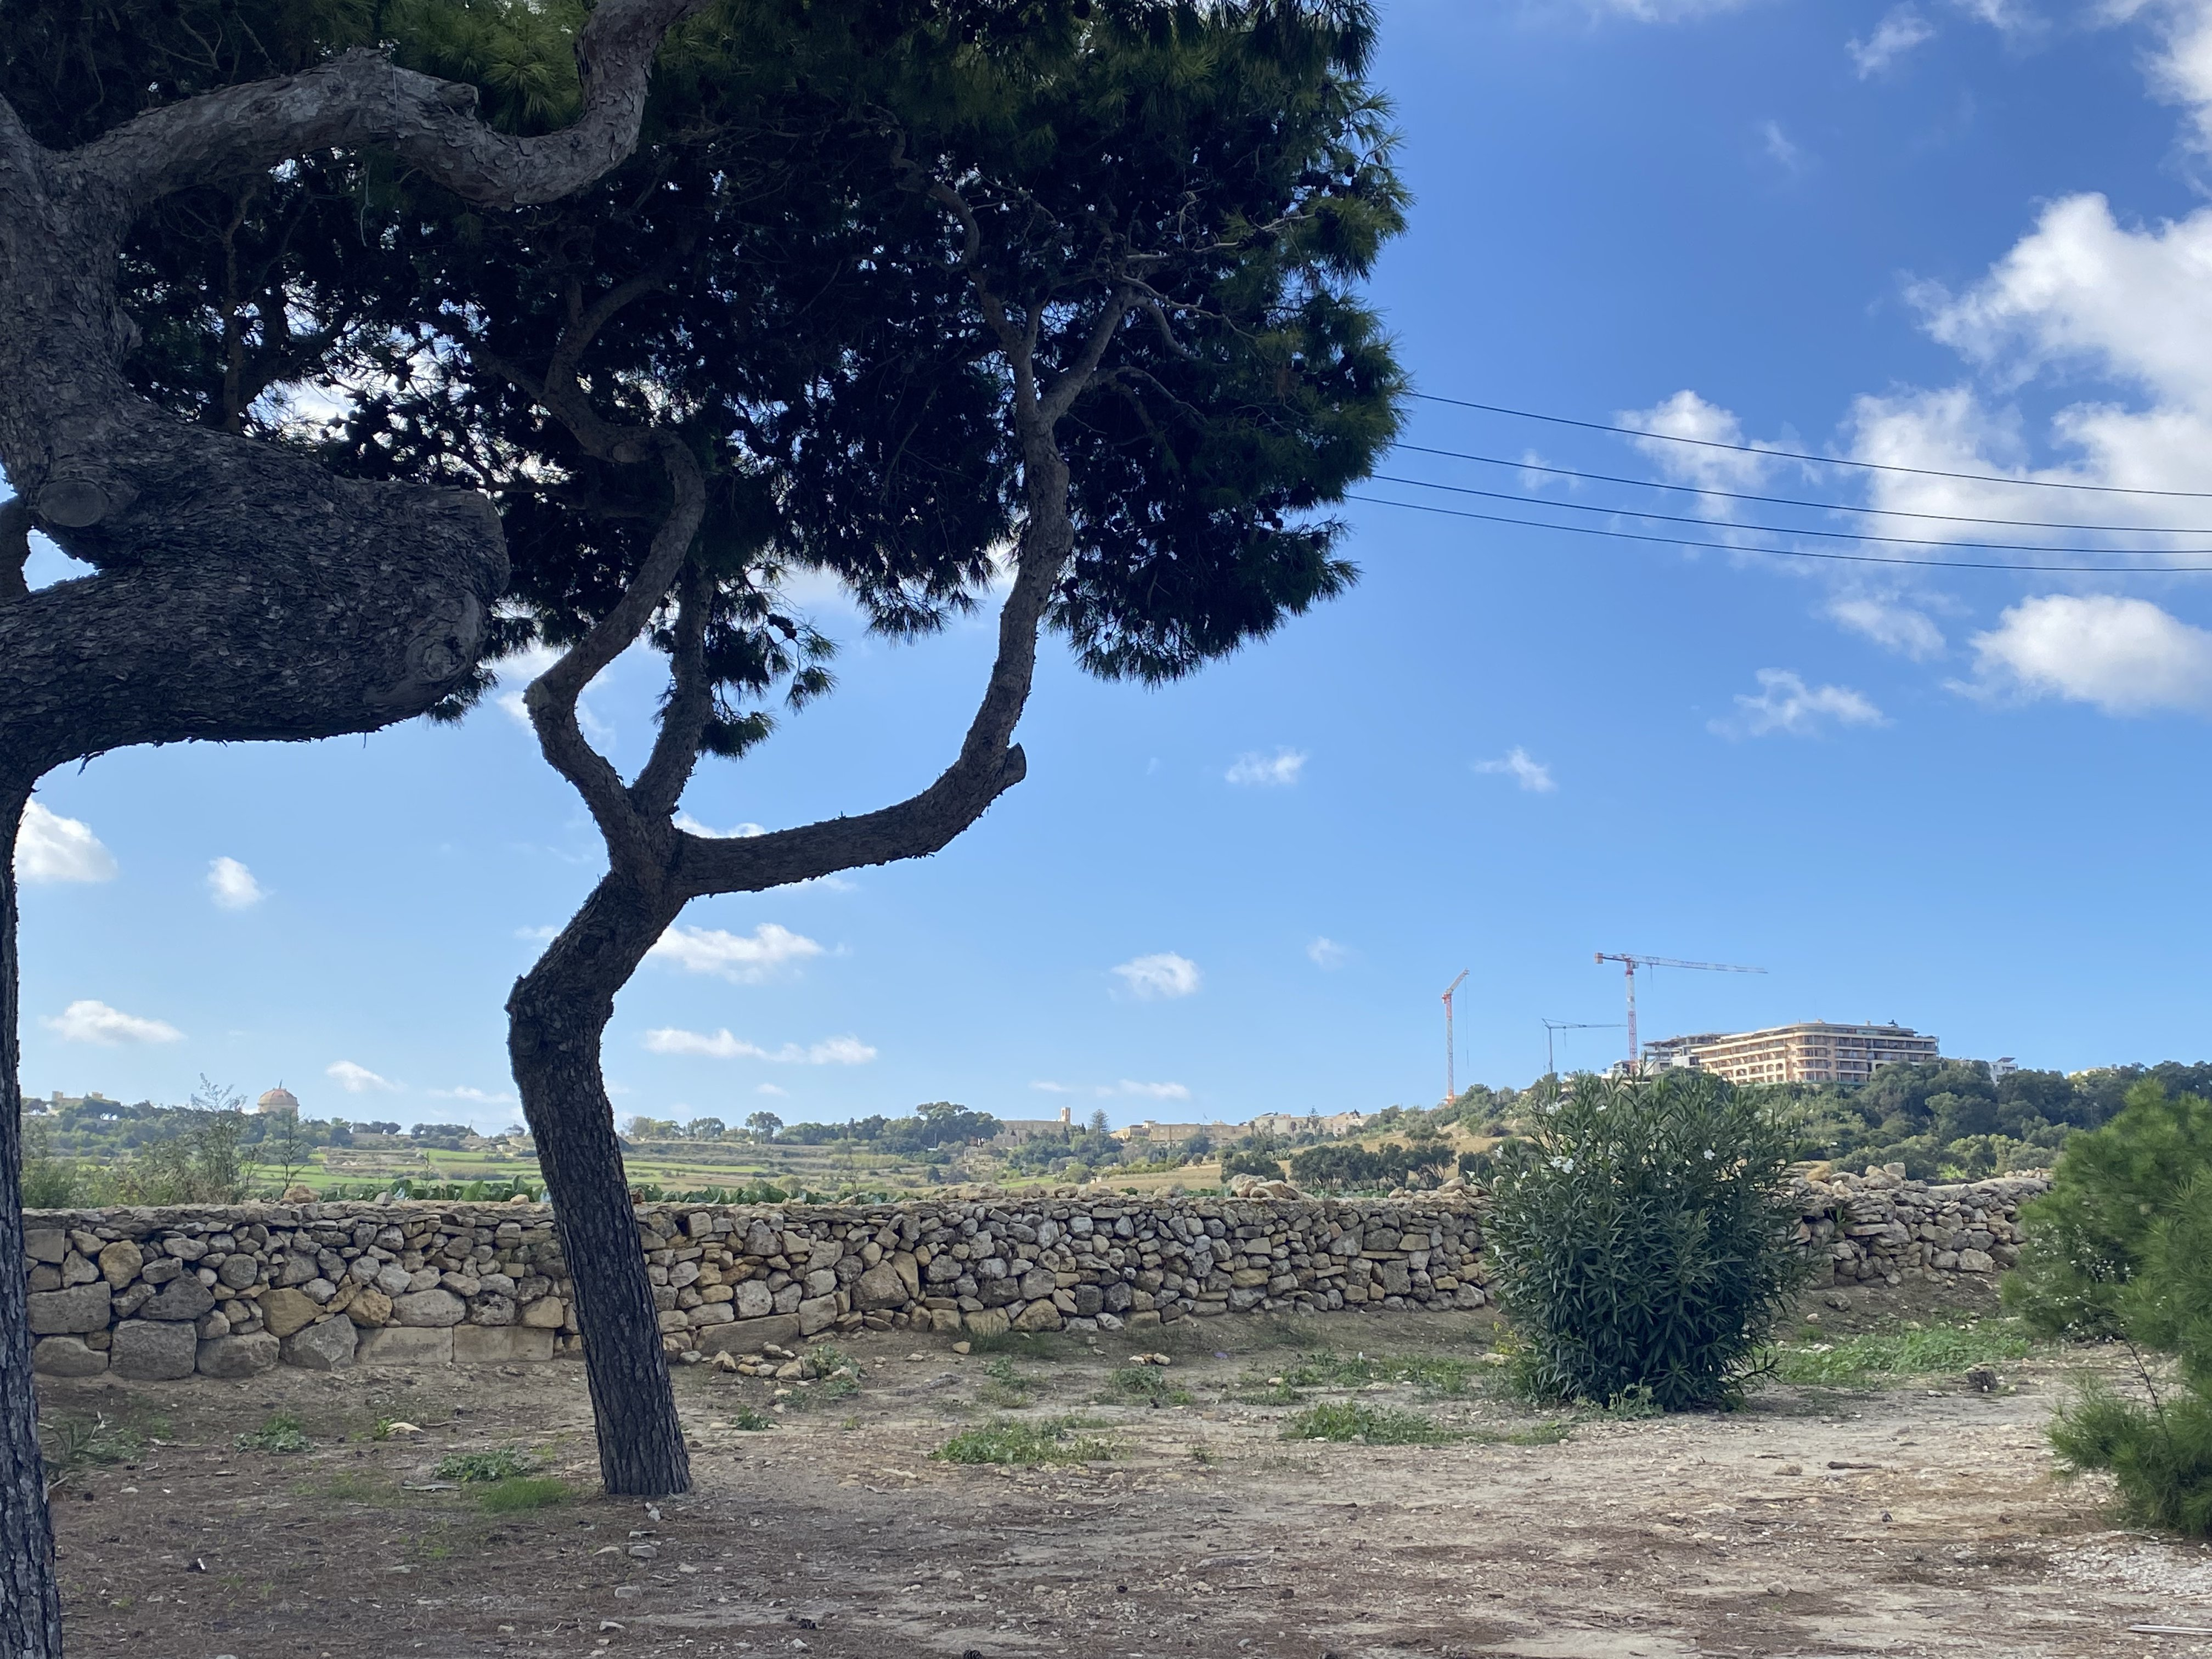crane: (1590, 939, 1812, 1035), (1425, 943, 1489, 1103)
